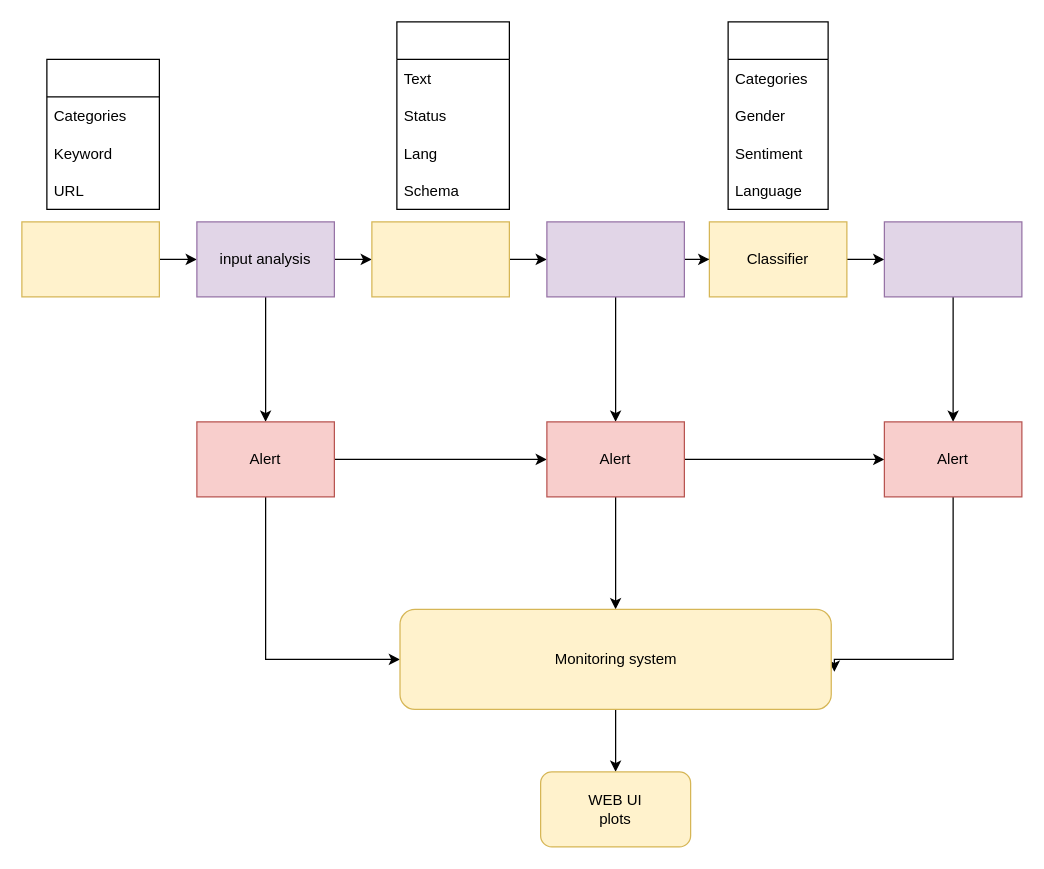
Image size: 1044x869. Some labels were removed from this diagram. Here are the shapes that lost their labels. From the top down, the centre of each, then its label:
At point (90, 259): "input".
At point (440, 259): "Crawler".
At point (615, 259): "Crawler analysis".
At point (952, 259): "Classifier analysis".
